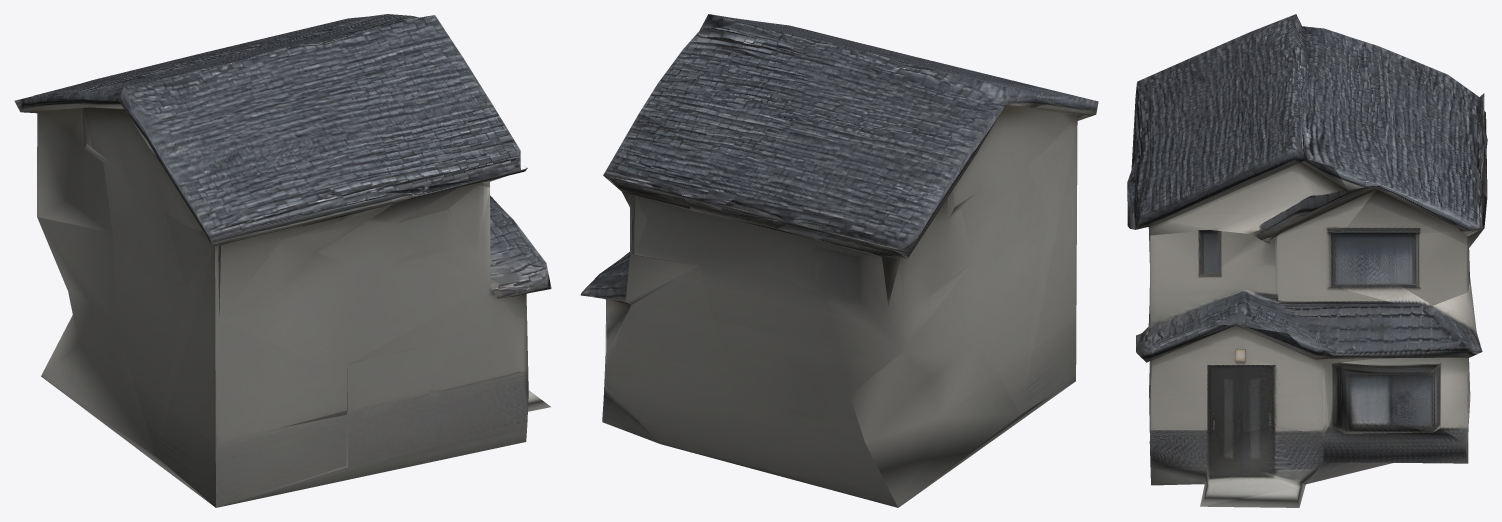
The model's file is maison-b.glb.
The picture shows the model from 3 angles, left to right: view 1: azimuth 30°, elevation 25°; view 2: azimuth 150°, elevation 25°; view 3: azimuth 270°, elevation 25°; orthographic projection. The views are drawn at different scales.
Parts seen in each view (by area): view 1: maison; view 2: maison; view 3: maison.
Part boxes in pixels (x1,y1,x2,y2): maison: (14,14,551,507); maison: (580,14,1098,507); maison: (1127,14,1487,507).
Bounding box in the file's own units: 0.9976 × 0.9448 × 0.925.
1 material, 1 textured.
